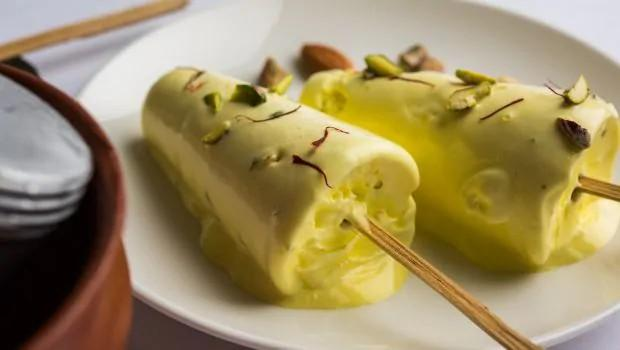Kulfi: (137, 63, 418, 308), (298, 66, 620, 264)
